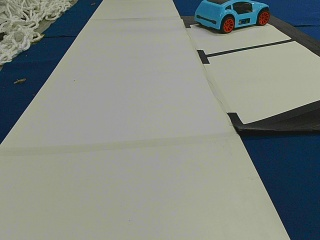car: (194, 1, 270, 32)
